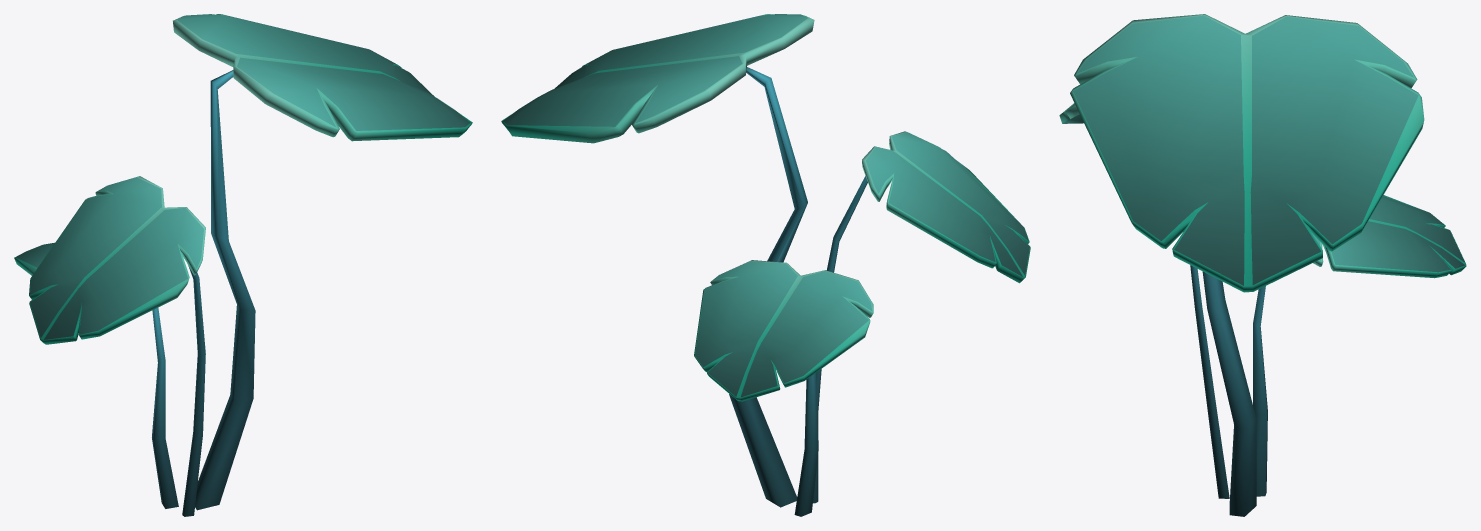
Rendered from Plant_A_1.fbx.
The picture shows the model from 3 angles, left to right: view 1: azimuth 30°, elevation 25°; view 2: azimuth 150°, elevation 25°; view 3: azimuth 270°, elevation 25°; orthographic projection. The views are drawn at different scales.
Parts seen in each view (by area): view 1: Plant_A_1; view 2: Plant_A_1; view 3: Plant_A_1.
Boxes of the visible parts, x1,y1,x2,y2 form: Plant_A_1: [14, 14, 472, 516]; Plant_A_1: [501, 14, 1030, 516]; Plant_A_1: [1059, 14, 1466, 516].
Bounding box in the file's own units: 44.62 × 41.36 × 30.33.
